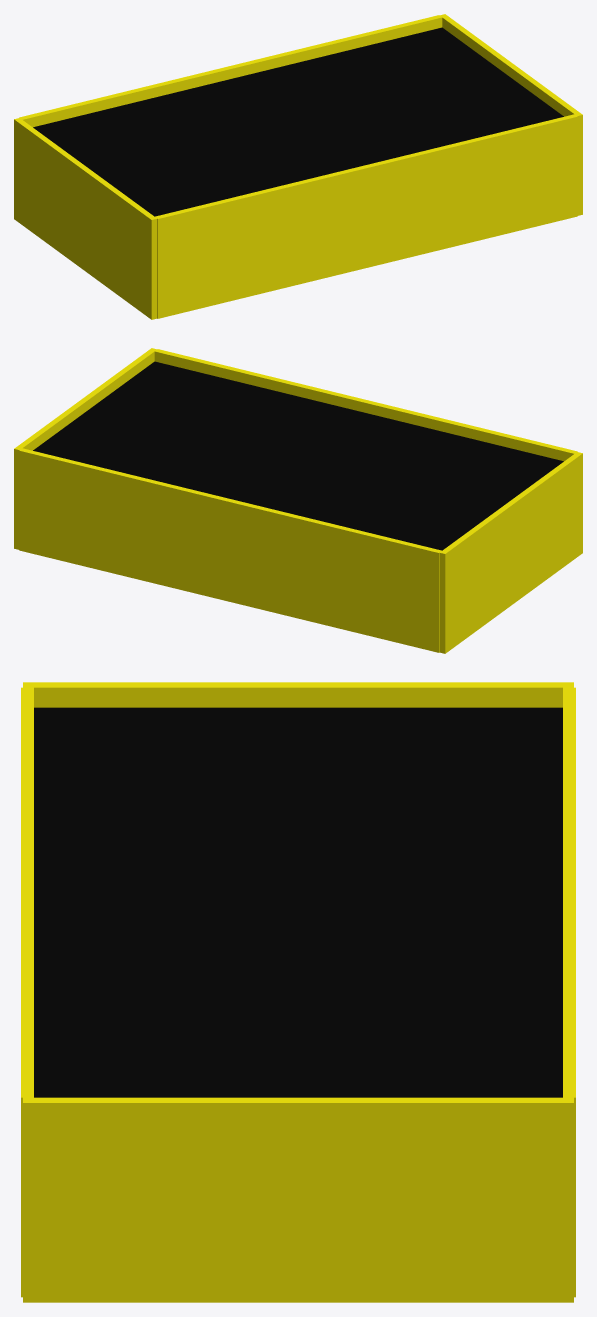
The model's file is TitleStageModel.fbx.
3 renders of one model, top to bottom at view 1: azimuth 30°, elevation 25°; view 2: azimuth 150°, elevation 25°; view 3: azimuth 270°, elevation 25°, orthographic. The views are drawn at different scales.
Parts seen in each view (by area): view 1: Cube.001, Cube.003, Cube.006, Cube.002, Cube.005; view 2: Cube.001, Cube.002, Cube.006, Cube.003, Cube.005; view 3: Cube.001, Cube.005, Cube.006, Cube.002, Cube.003.
Part boxes in pixels (box(x1,y1,x2,y2)): Cube.001: box(33, 27, 563, 216); Cube.003: box(155, 114, 577, 318); Cube.006: box(14, 118, 157, 319); Cube.002: box(19, 15, 442, 127); Cube.005: box(440, 14, 582, 215); Cube.001: box(33, 361, 563, 550); Cube.002: box(19, 448, 441, 652); Cube.006: box(439, 452, 582, 653); Cube.003: box(154, 349, 577, 461); Cube.005: box(14, 348, 156, 549); Cube.001: box(34, 707, 562, 1097); Cube.005: box(23, 1097, 573, 1302); Cube.006: box(23, 682, 573, 707); Cube.002: box(563, 687, 575, 1297); Cube.003: box(21, 687, 33, 1297).
Size of the model in its own units: 4520 by 1000 by 2520.
5 materials, 5 textured.
